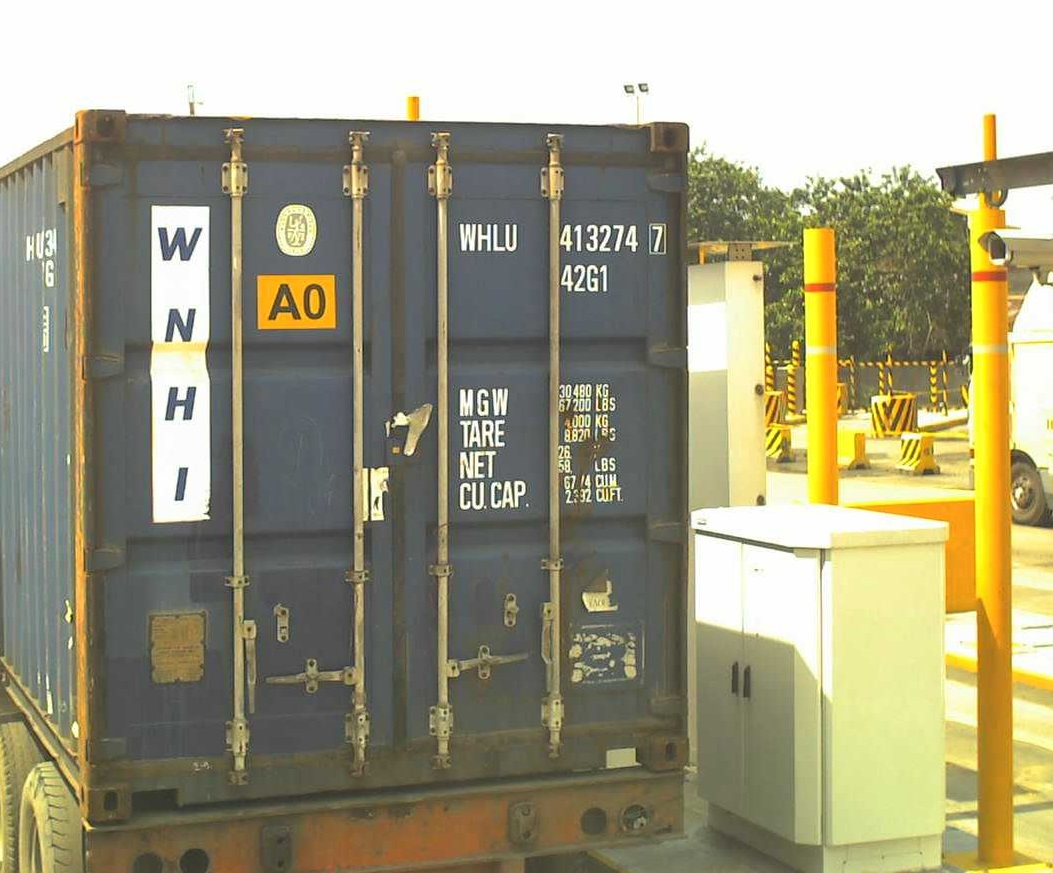container_door: (71, 105, 696, 836)
